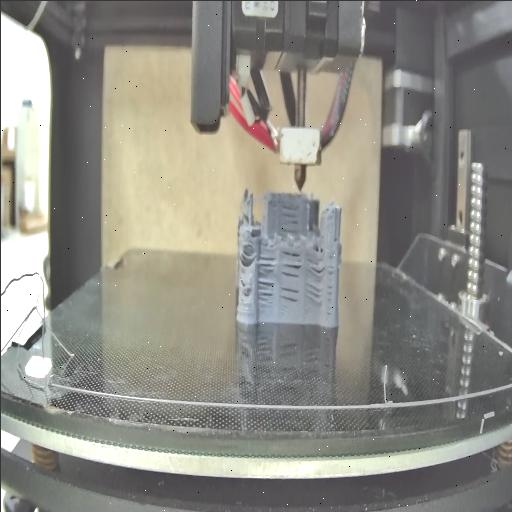cracks: (256, 256, 275, 306), (277, 198, 303, 234), (278, 249, 302, 279), (278, 282, 300, 306), (325, 258, 333, 316), (306, 254, 324, 278), (303, 284, 321, 306), (234, 248, 250, 268), (236, 276, 248, 288), (330, 232, 336, 244)
